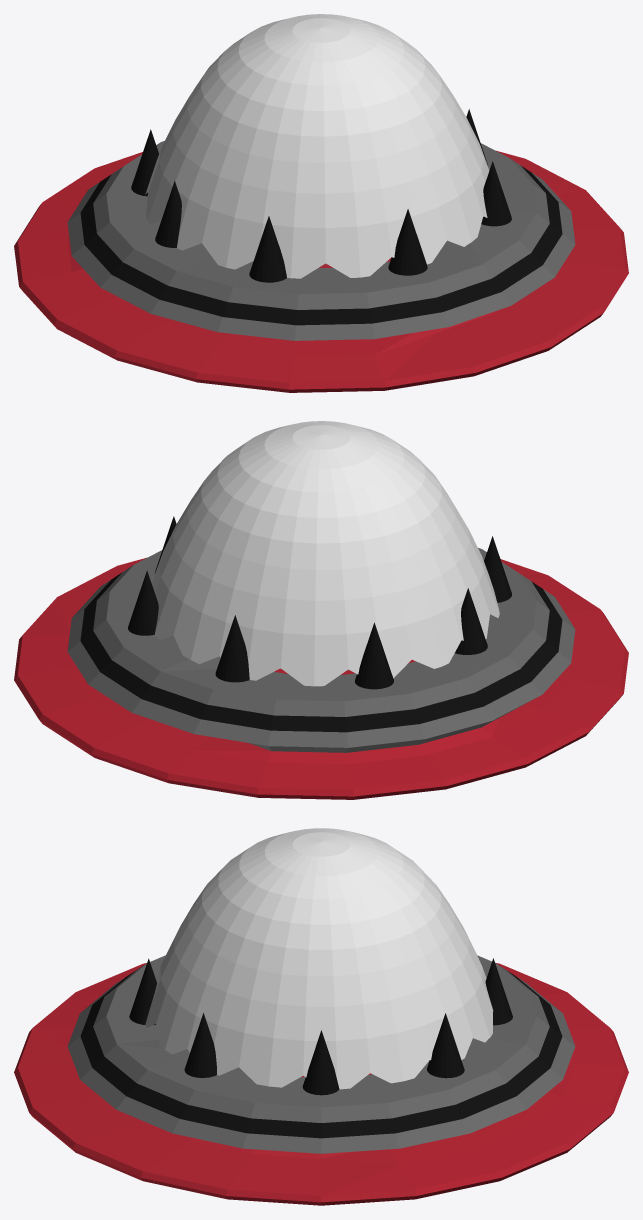
The picture shows the model from 3 angles, top to bottom: view 1: azimuth 30°, elevation 25°; view 2: azimuth 150°, elevation 25°; view 3: azimuth 270°, elevation 25°; orthographic projection.
Parts seen in each view (by area): view 1: slot_anchor_saucer, slot_dome; view 2: slot_anchor_saucer, slot_dome; view 3: slot_anchor_saucer, slot_dome.
Part boxes in pixels (x1=…): slot_anchor_saucer: x1=14, y1=109, x2=628, y2=392; slot_dome: x1=145, y1=14, x2=489, y2=278; slot_anchor_saucer: x1=14, y1=516, x2=628, y2=799; slot_dome: x1=151, y1=421, x2=499, y2=686; slot_anchor_saucer: x1=14, y1=955, x2=628, y2=1205; slot_dome: x1=145, y1=828, x2=493, y2=1089.
Size of the model in its own units: 2 by 1.17 by 2.
1 material, 1 textured.
